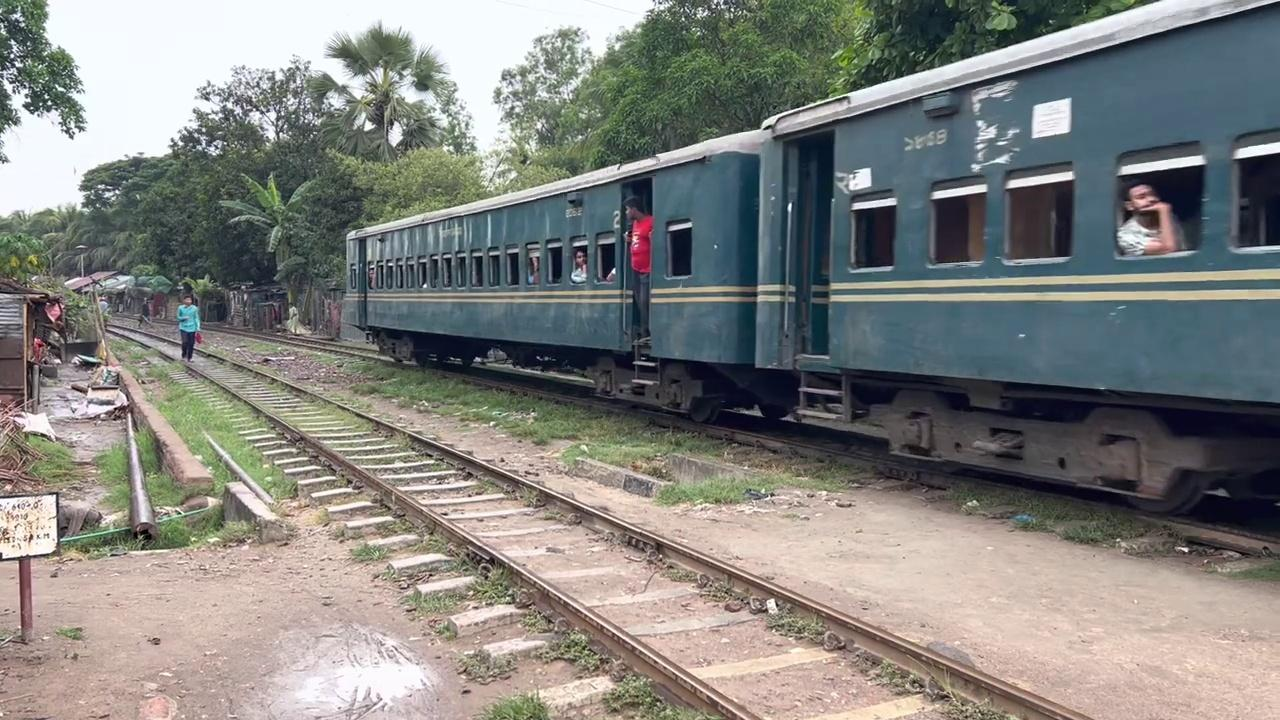Fence: (1116, 177, 1186, 256), (621, 195, 653, 343), (176, 294, 201, 362), (570, 249, 587, 283)
Motorcycle: (91, 391, 1023, 717)
Pothole: (0, 470, 90, 592)
Potted-plant: (337, 0, 1278, 516)
Railroad-crossing: (304, 19, 449, 163)
